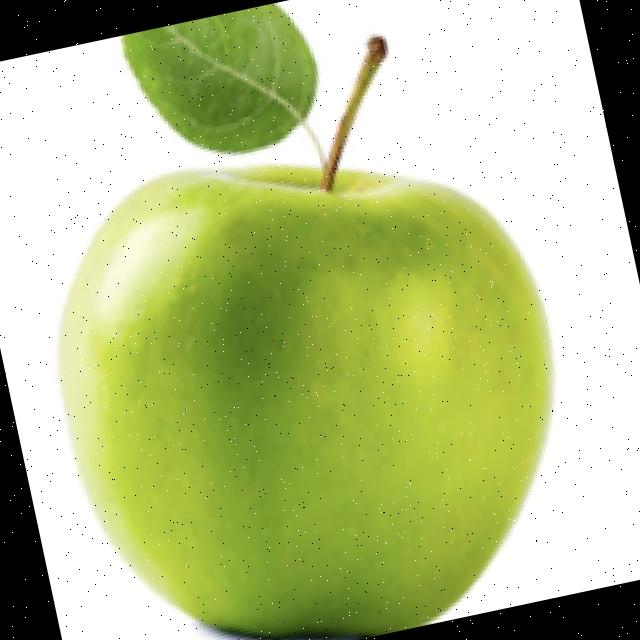apple: (52, 1, 560, 640)
